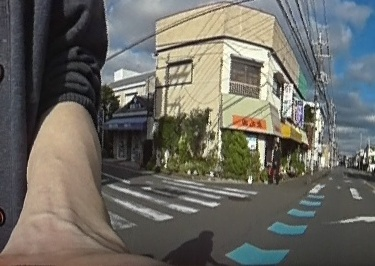person: (271, 142, 282, 182)
